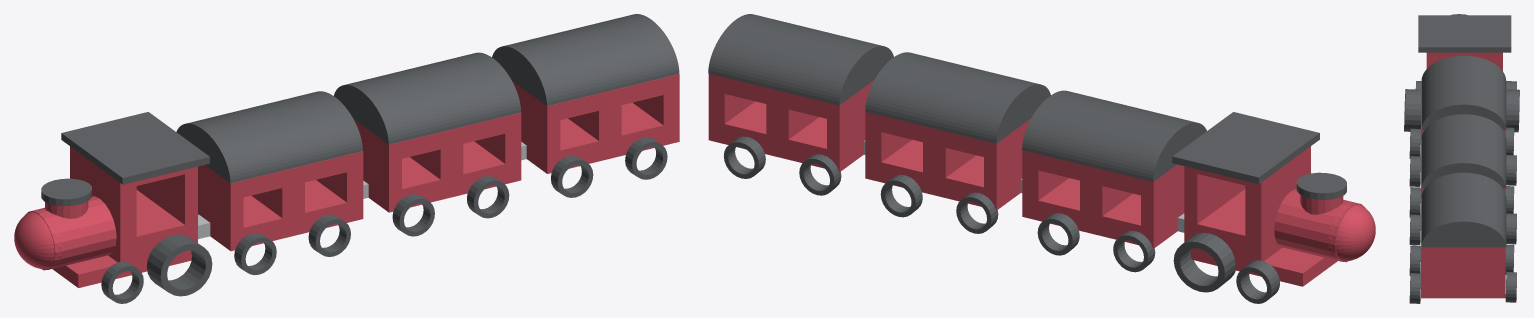
Rendered from tren.glb.
3 renders of one model, left to right at view 1: azimuth 30°, elevation 25°; view 2: azimuth 150°, elevation 25°; view 3: azimuth 270°, elevation 25°, orthographic. The views are drawn at different scales.
Parts seen in each view (by area): view 1: Mesh_Mesh_head_geo.001_lambert2SG.001; view 2: Mesh_Mesh_head_geo.001_lambert2SG.001; view 3: Mesh_Mesh_head_geo.001_lambert2SG.001.
Boxes of the visible parts, x1,y1,x2,y2 form: Mesh_Mesh_head_geo.001_lambert2SG.001: (14, 14, 679, 303); Mesh_Mesh_head_geo.001_lambert2SG.001: (708, 14, 1375, 303); Mesh_Mesh_head_geo.001_lambert2SG.001: (1404, 14, 1519, 303).
Bounding box in the file's own units: 197 × 37 × 41.
